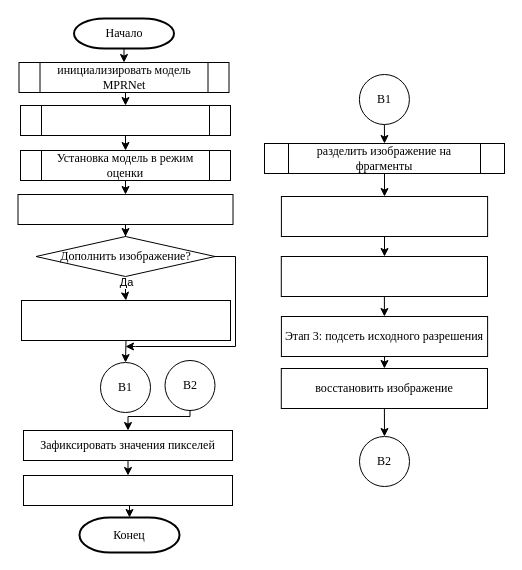
Image size: 522x570. Some labels were removed from this diagram. Here are the shapes that lost their labels. From the top down, the centre of each, then its label:
At point (125, 120): "Загрузка параметров сети".
At point (125, 209): "Загрузка изображение".
At point (384, 216): "Этап 1: Кодирование и декодирование".
At point (384, 276): "Этап 2: Кодирование и декодирование".
At point (125, 320): "Дополнение изображения нулевыми пикселями".
At point (127, 490): "Распаковка выходного изображения".
